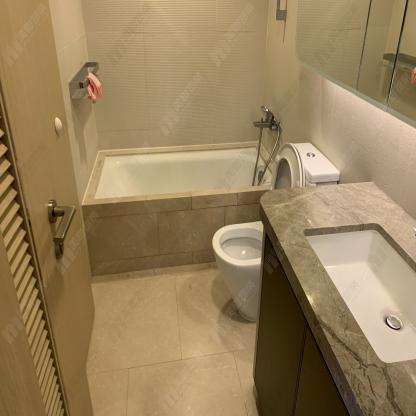Bathtub: (81, 142, 275, 277)
Toilet: (213, 220, 262, 322), (269, 142, 340, 189)
Toilet Sink: (260, 182, 416, 415)
